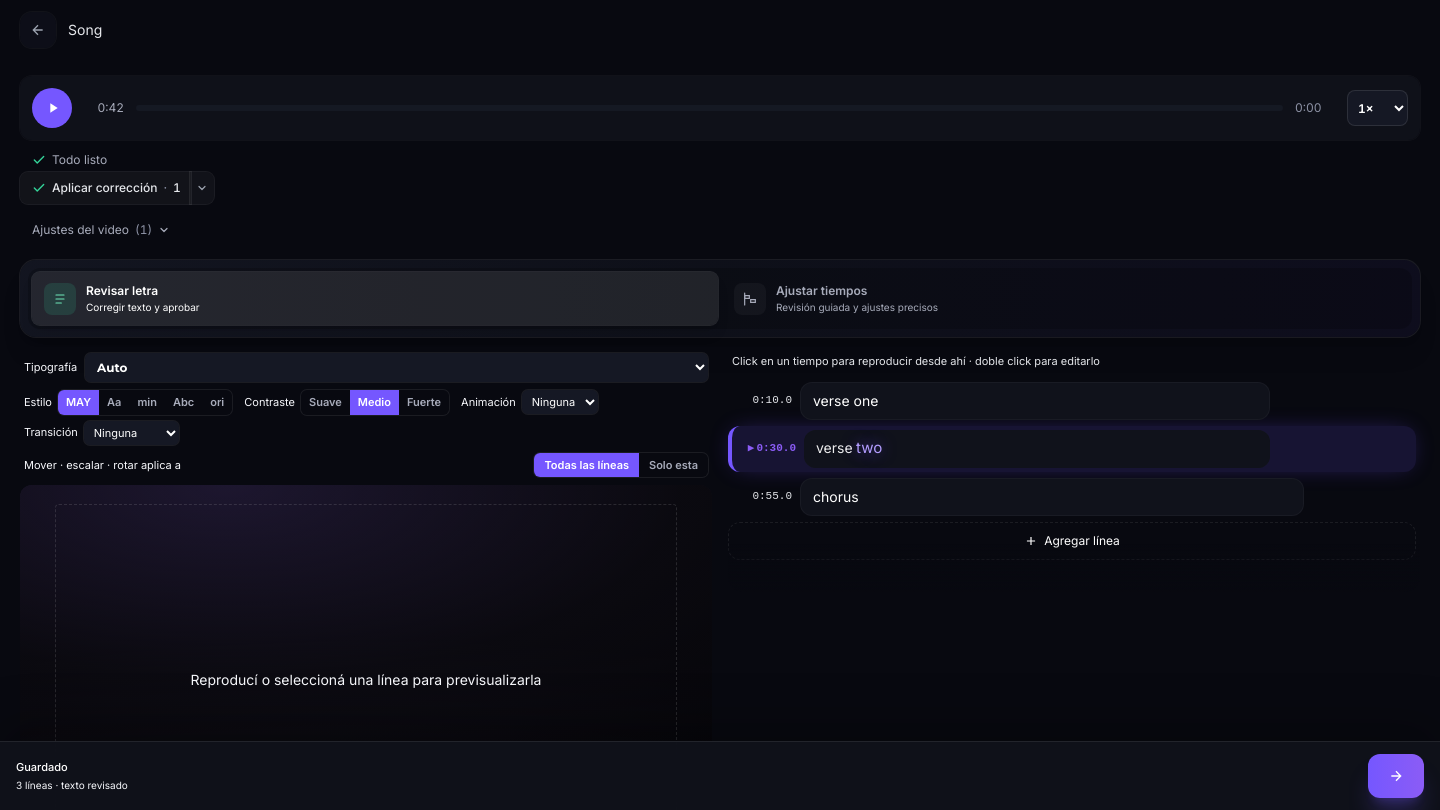
Scenario: LyricsEditor — addBlankLine (B3) › inserts a new line at currentTime, not pinned to last segment
The width and height of the screenshot is (1440, 810).
// Click the "+ Agregar línea" button.
Click the button "Agregar línea".
click(1072, 541)  # box [728,522,1416,560]
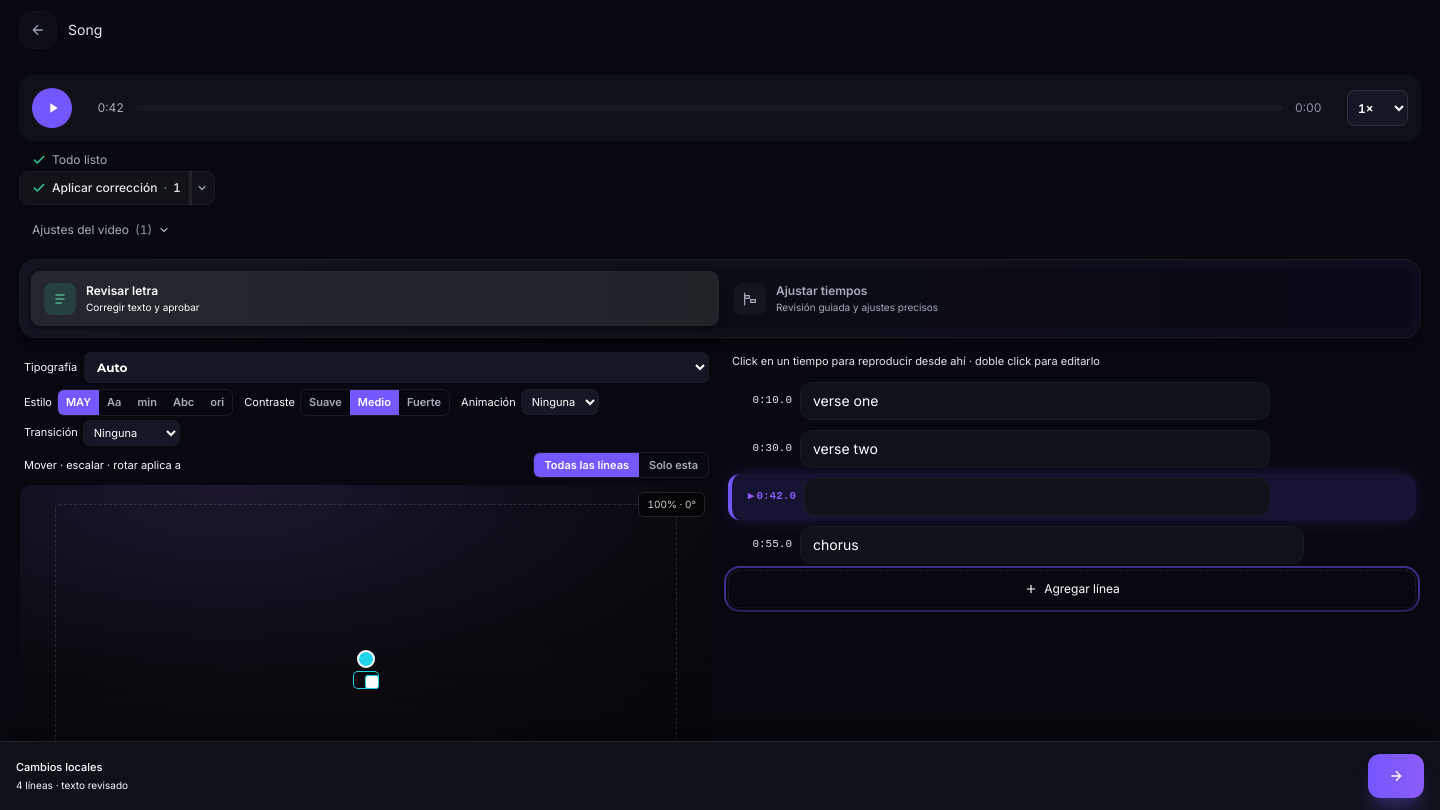
Result: the button "▶0:42.0" is shown at [740,478,796,504]
